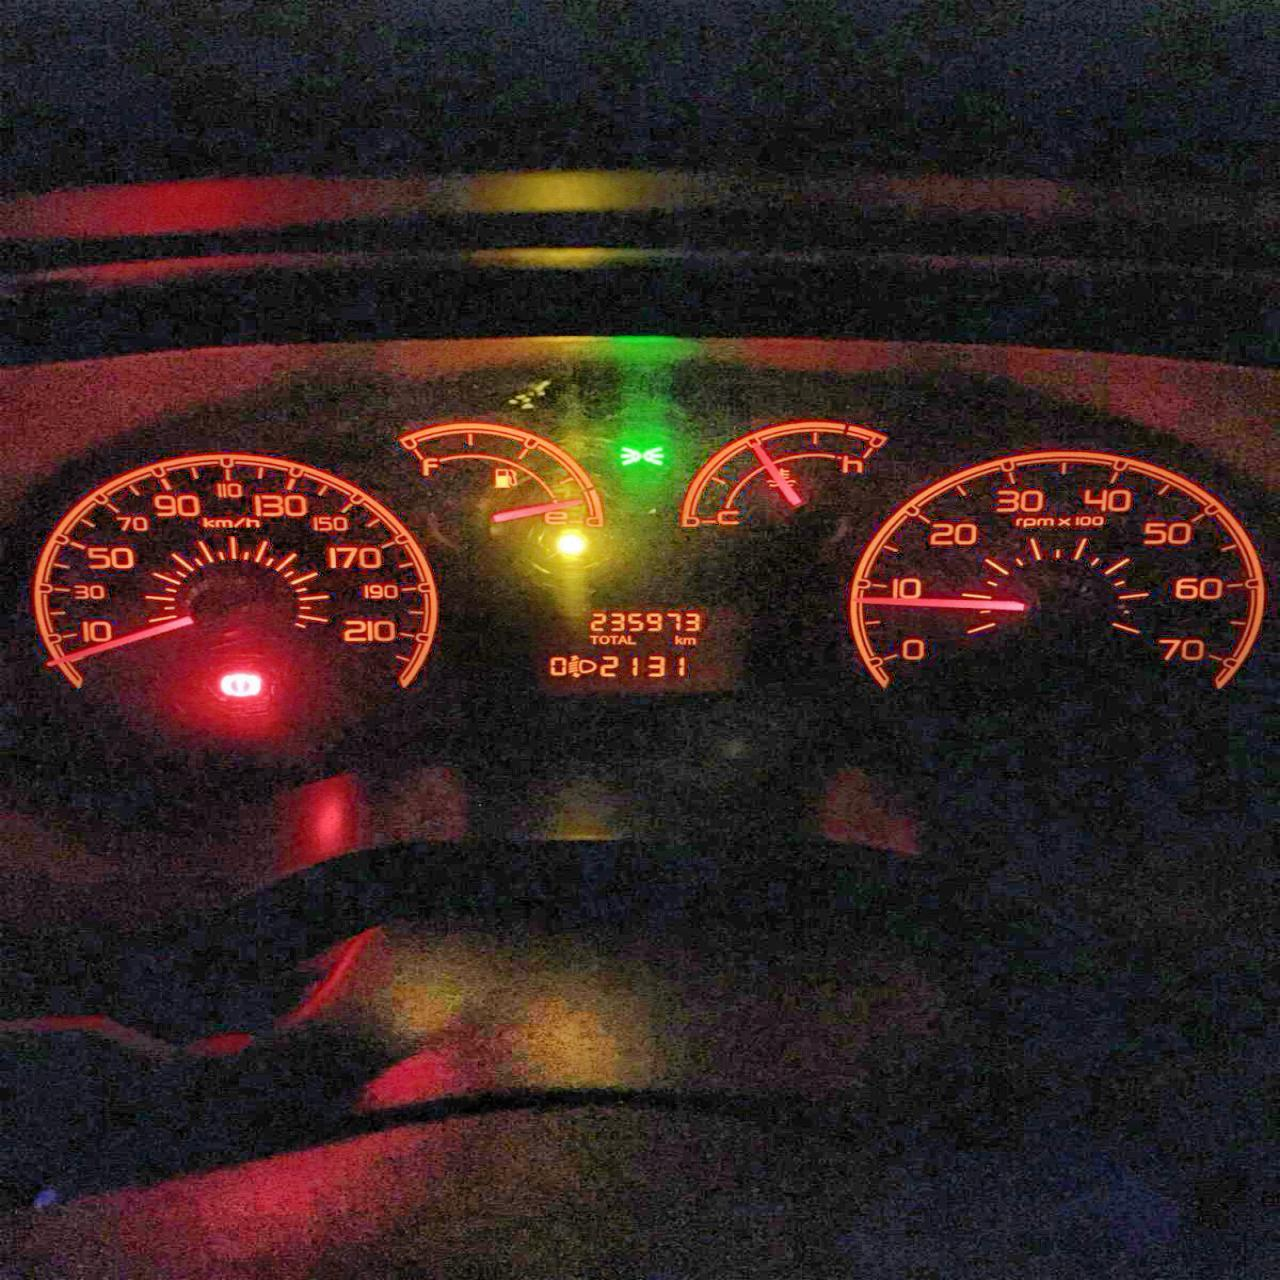0: (546, 656, 565, 678)
1: (628, 654, 640, 679), (676, 654, 686, 678)
2: (598, 654, 619, 680), (588, 611, 607, 632)
3: (647, 653, 663, 680), (683, 611, 700, 629), (610, 612, 622, 631)
5: (626, 611, 642, 631)
7: (667, 611, 681, 631)
9: (645, 611, 662, 632)
X: (598, 634, 608, 644), (588, 634, 598, 645), (682, 636, 695, 644), (627, 634, 636, 644), (674, 634, 682, 645), (618, 634, 626, 644), (610, 634, 617, 645)
odometer: (532, 602, 716, 688)
